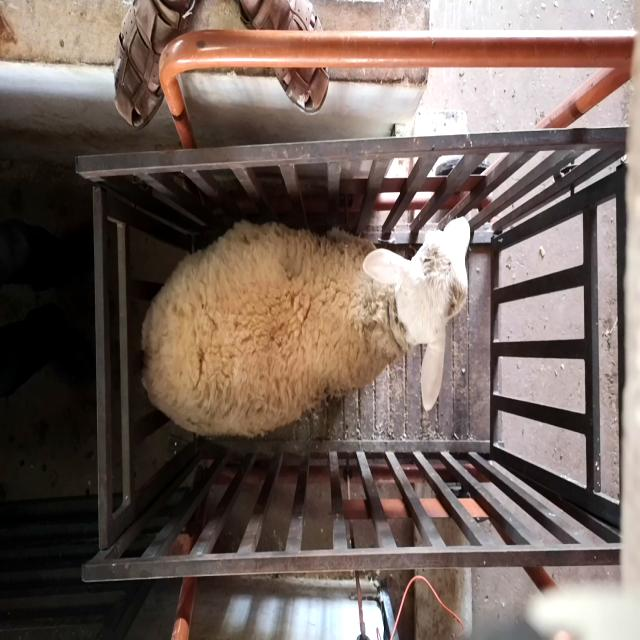sheep: (141, 215, 473, 439)
